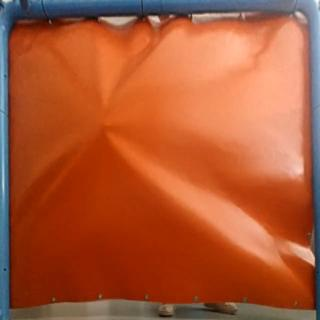Hit-hRxx: (100, 118, 112, 130)
